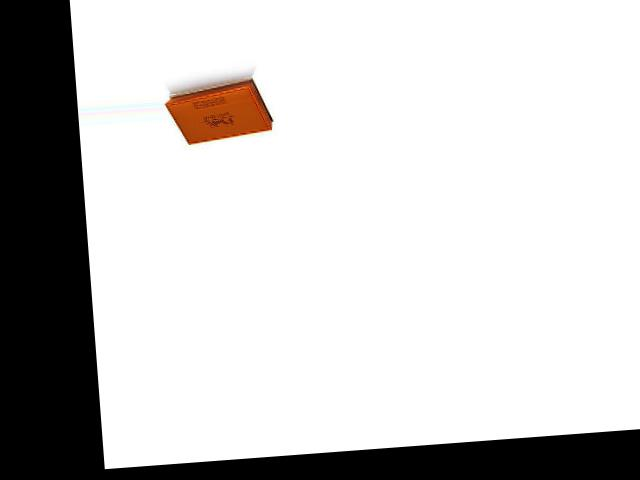chocolate: (164, 69, 276, 149)
